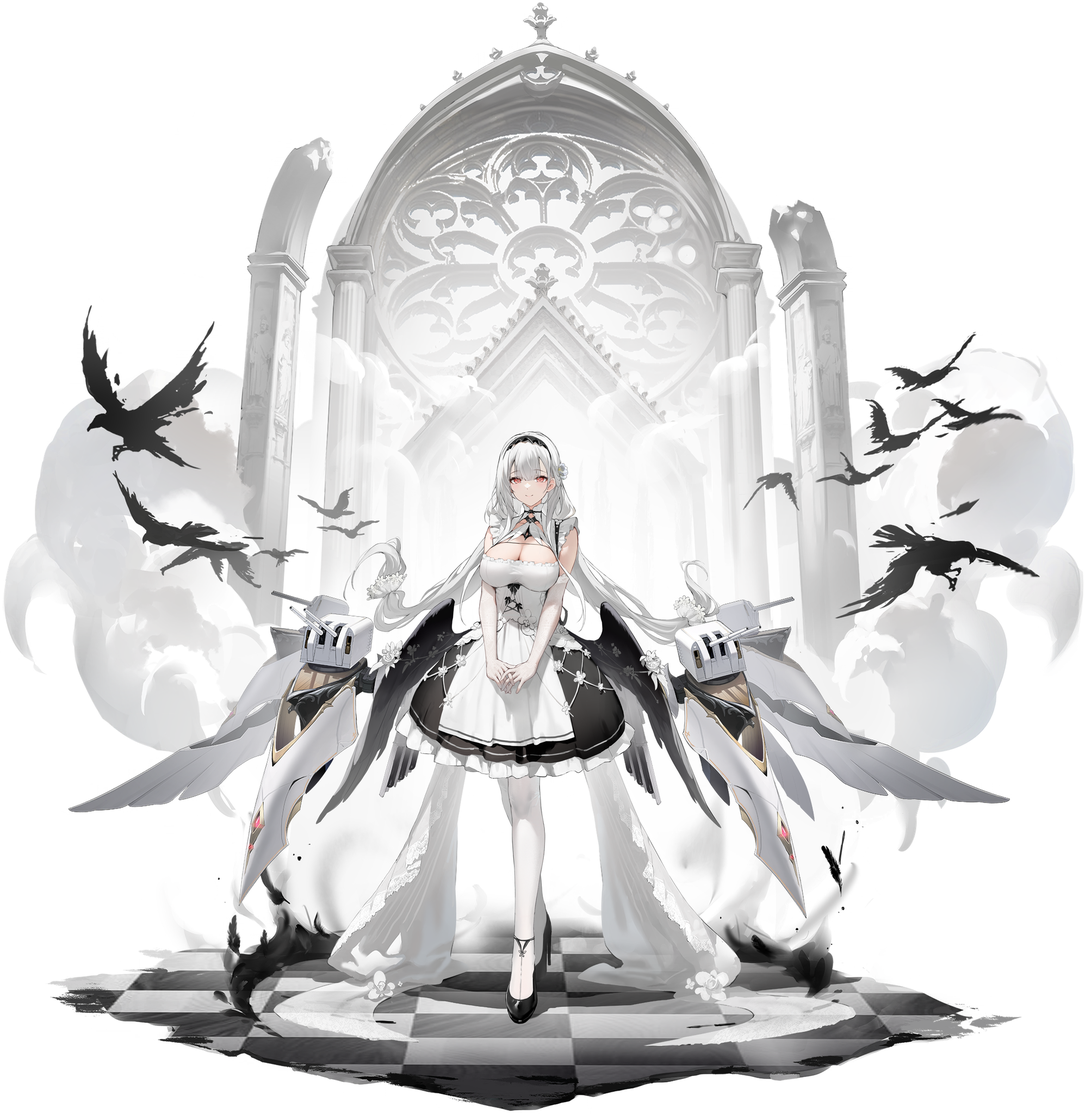person: (351, 398, 698, 1050)
